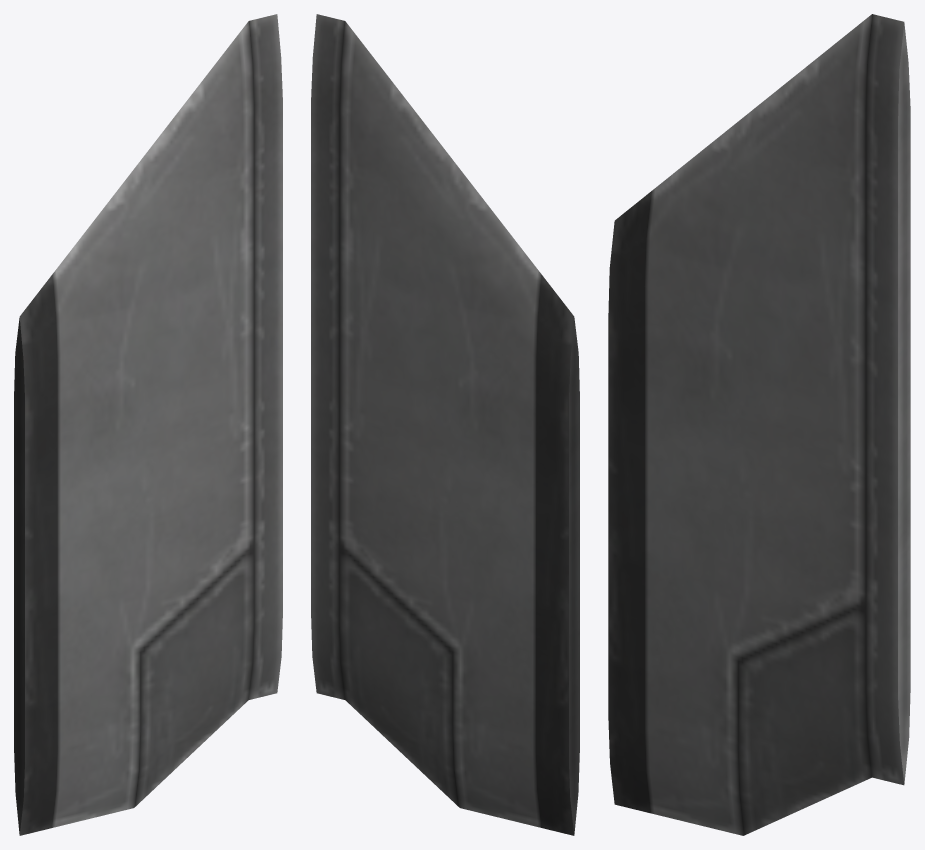
File: black_knight_winglet_srf_1.obj
3 renders of one model, left to right at view 1: azimuth 30°, elevation 25°; view 2: azimuth 150°, elevation 25°; view 3: azimuth 330°, elevation 25°, orthographic. The views are drawn at different scales.
Parts seen in each view (by area): view 1: mesh1; view 2: mesh1; view 3: mesh1.
Boxes of the visible parts, x1=… form: mesh1: x1=14, y1=14, x2=282, y2=835; mesh1: x1=311, y1=14, x2=579, y2=835; mesh1: x1=608, y1=14, x2=910, y2=835.
Size of the model in its own units: 0.3381 by 0.95 by 0.025.
Materials: 1 (1 with a texture image).
